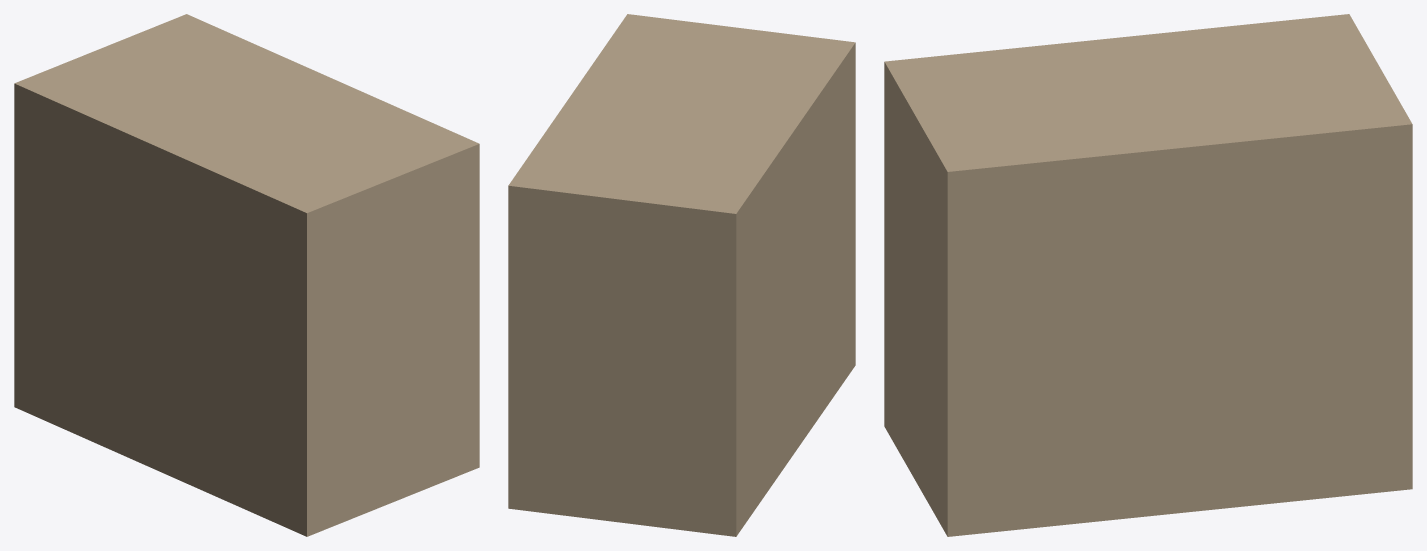
Rendered from bld_107639027.dae.
3 renders of one model, left to right at view 1: azimuth 30°, elevation 25°; view 2: azimuth 150°, elevation 25°; view 3: azimuth 270°, elevation 25°, orthographic. The views are drawn at different scales.
Visible parts, largest first — view 1: bld_107639027; view 2: bld_107639027; view 3: bld_107639027.
Part boxes in pixels (left/top/right/bottom): bld_107639027: left=14, top=14, right=479, bottom=536; bld_107639027: left=508, top=14, right=855, bottom=536; bld_107639027: left=884, top=14, right=1412, bottom=536.
Bounding box in the file's own units: 7.43 × 10.49 × 8.
